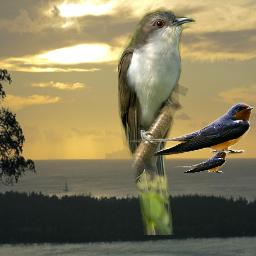Cuckoo: (118, 3, 196, 235)
Swallow: (128, 102, 254, 156), (172, 150, 227, 173)
